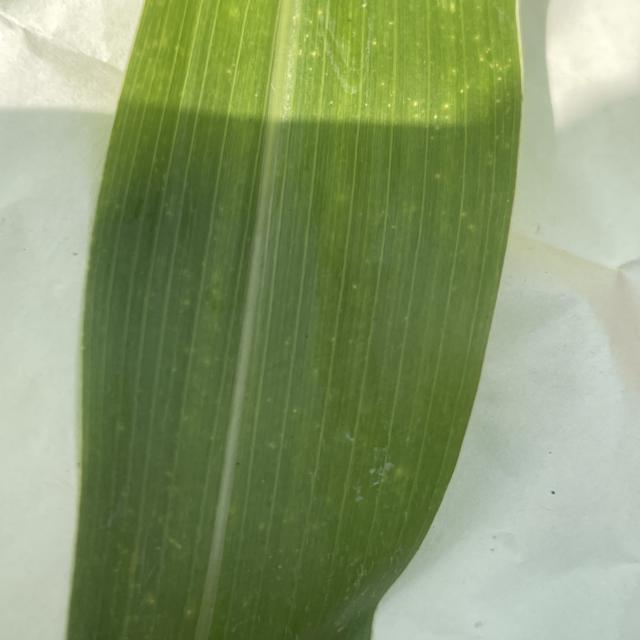millet_healthy: (76, 0, 523, 640)
